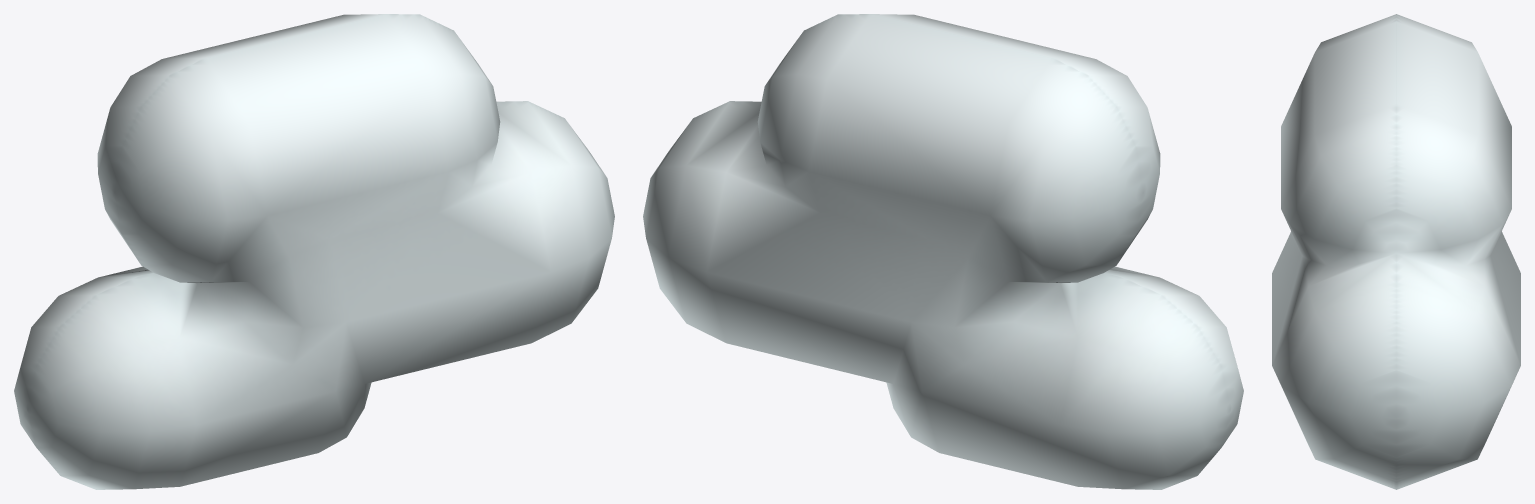
The model's file is kumo02.fbx.
3 renders of one model, left to right at view 1: azimuth 30°, elevation 25°; view 2: azimuth 150°, elevation 25°; view 3: azimuth 270°, elevation 25°, orthographic. The views are drawn at different scales.
Parts seen in each view (by area): view 1: kumo02; view 2: kumo02; view 3: kumo02.
Part boxes in pixels (x1,y1,x2,y2): kumo02: (14,14,614,489); kumo02: (643,14,1243,489); kumo02: (1272,14,1520,489).
Size of the model in its own units: 160 by 111 by 64.87.
